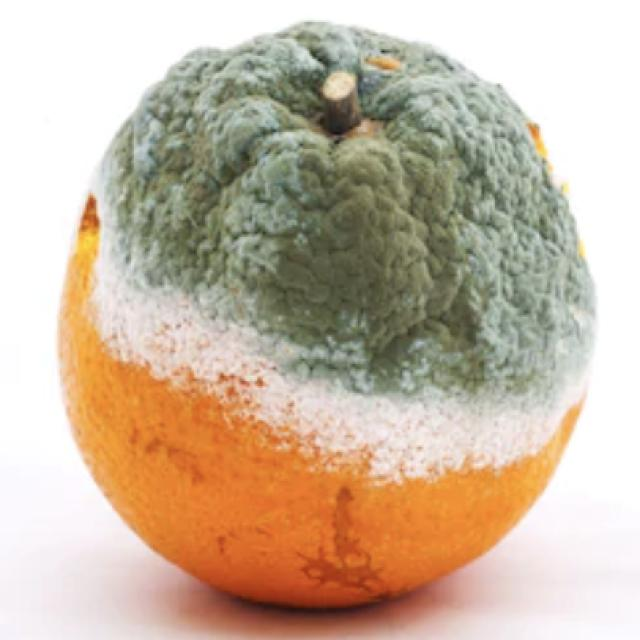sangat_busuk: (58, 9, 597, 624)
